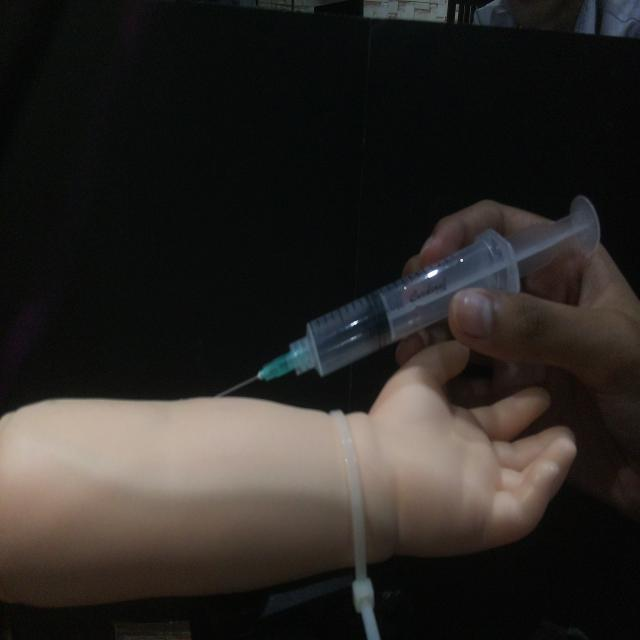19deg: (212, 190, 604, 400)
